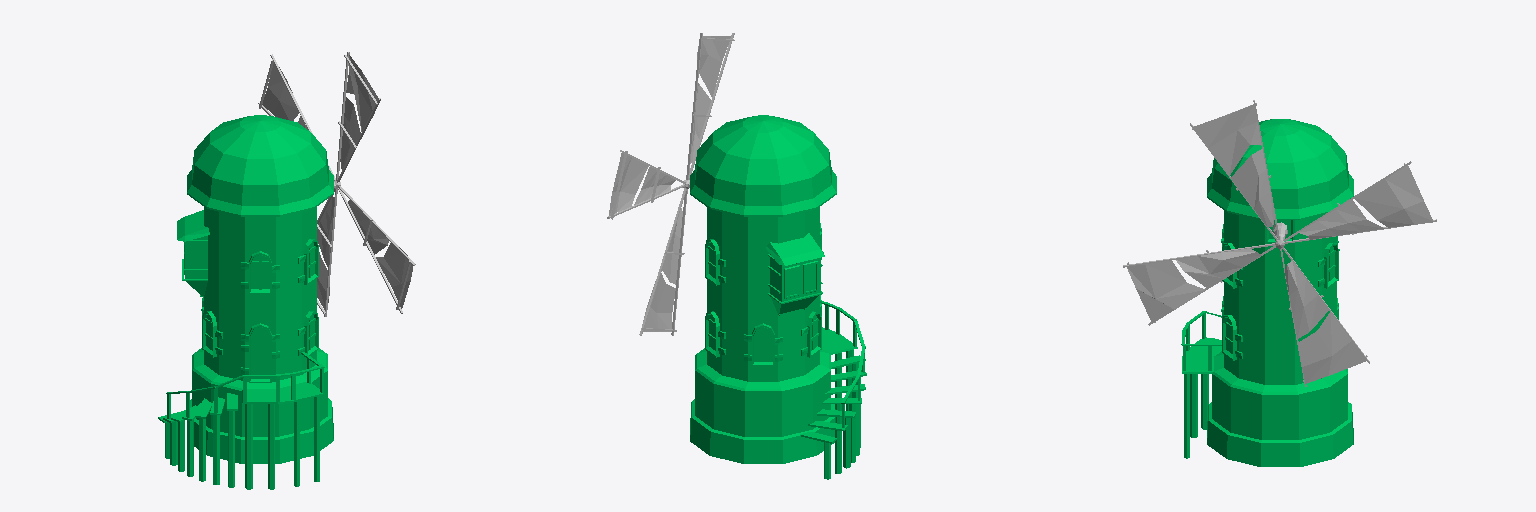
Rendered from windmill_001.obj.
3 views of the same model, side by side, from view 1: azimuth 30°, elevation 25°; view 2: azimuth 150°, elevation 25°; view 3: azimuth 270°, elevation 25° (orthographic).
Parts seen in each view (by area): view 1: mlyn_Circle, lopatky_Circle.003; view 2: mlyn_Circle, lopatky_Circle.003; view 3: mlyn_Circle, lopatky_Circle.003.
Part boxes in pixels (bbox=[...]): mlyn_Circle: bbox=[158, 115, 333, 489]; lopatky_Circle.003: bbox=[258, 52, 415, 316]; mlyn_Circle: bbox=[690, 115, 866, 479]; lopatky_Circle.003: bbox=[607, 33, 734, 335]; mlyn_Circle: bbox=[1181, 119, 1353, 466]; lopatky_Circle.003: bbox=[1123, 100, 1436, 386].
Size of the model in its own units: 5.22 by 11.3 by 8.28.